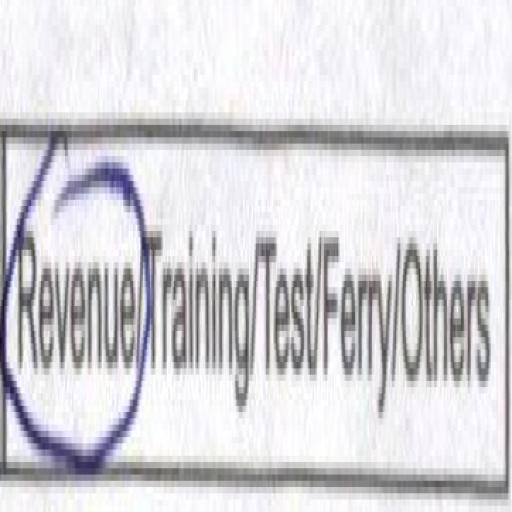check: (0, 114, 142, 502)
